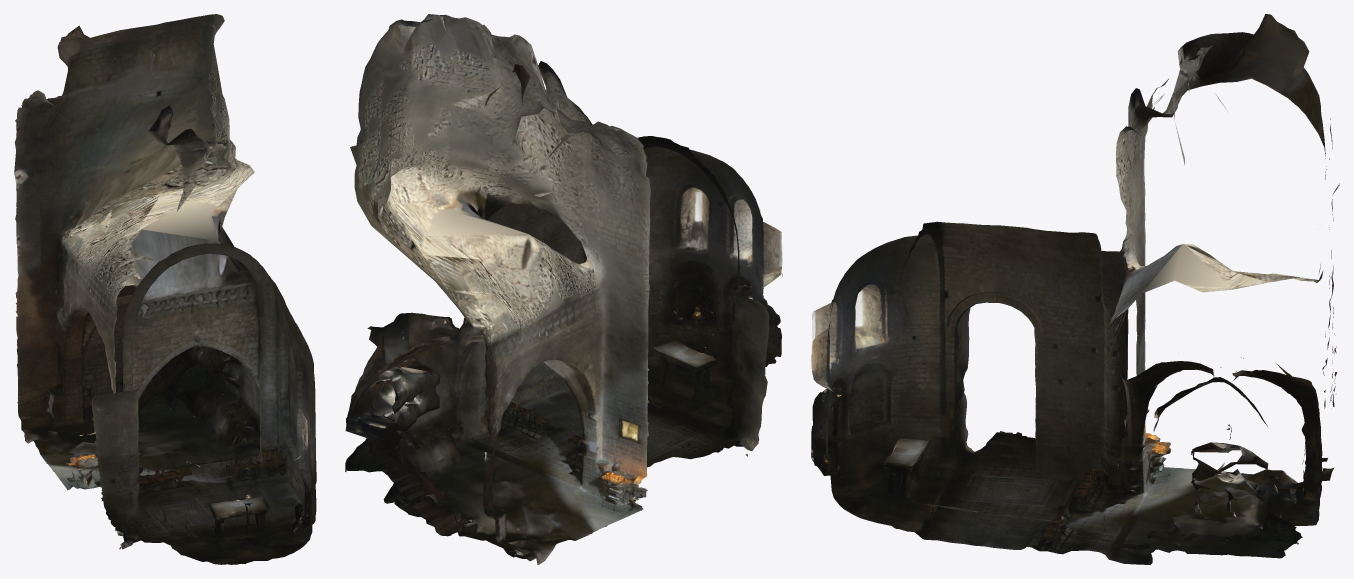
The model's file is medium.glb.
The picture shows the model from 3 angles, left to right: view 1: azimuth 30°, elevation 25°; view 2: azimuth 150°, elevation 25°; view 3: azimuth 270°, elevation 25°; orthographic projection. The views are drawn at different scales.
Parts seen in each view (by area): view 1: medium.011; view 2: medium.011; view 3: medium.011.
Boxes of the visible parts, x1,y1,x2,y2 form: medium.011: (14, 14, 316, 564); medium.011: (345, 14, 782, 564); medium.011: (811, 14, 1339, 564).
Bounding box in the file's own units: 8.52 × 14.27 × 13.62.
1 material, 1 textured.
